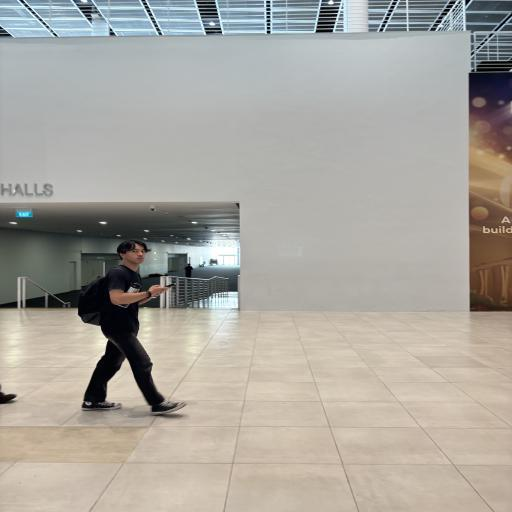person_right: (60, 234, 224, 426)
